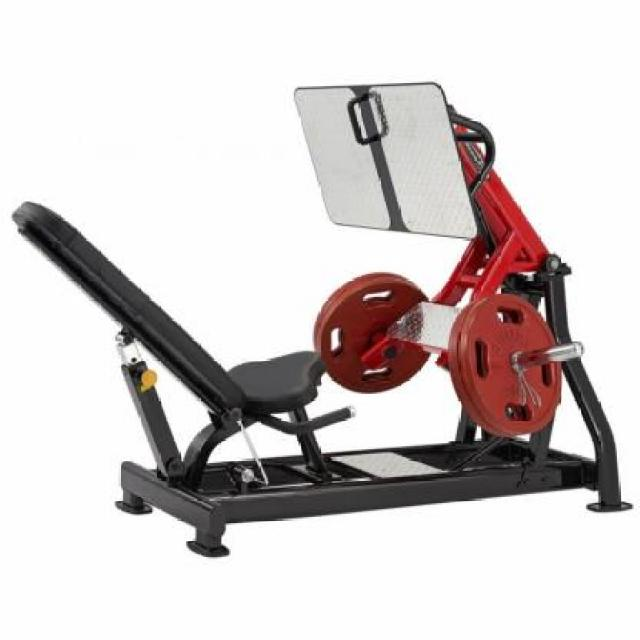leg press: (0, 68, 634, 572)
